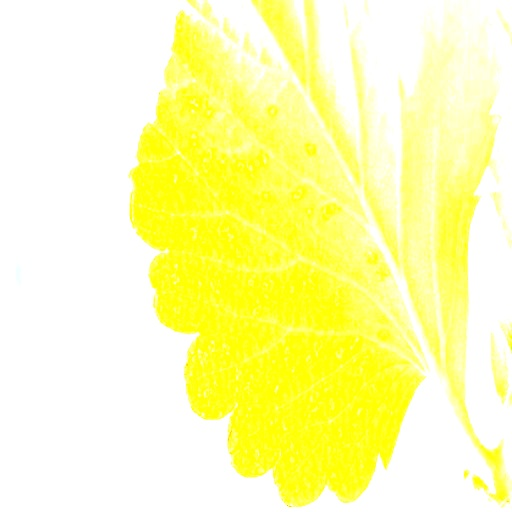Angular Leafspot: (125, 10, 420, 505)
